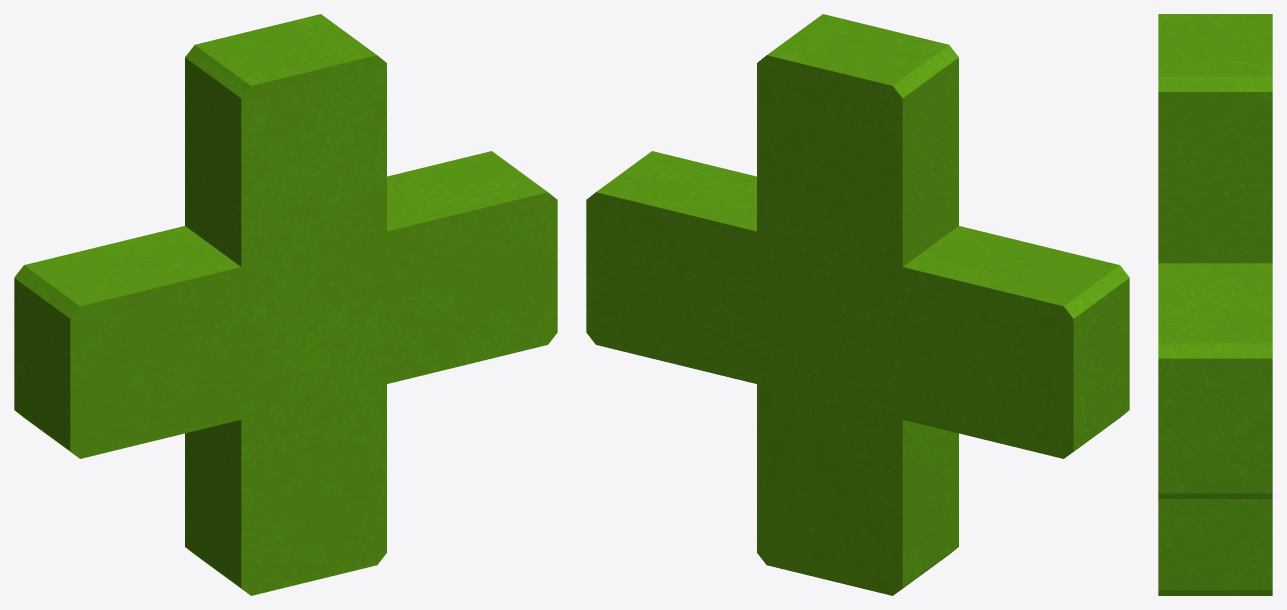
File: health.fbx
The picture shows the model from 3 angles, left to right: view 1: azimuth 30°, elevation 25°; view 2: azimuth 150°, elevation 25°; view 3: azimuth 270°, elevation 25°; orthographic projection.
Visible parts, largest first — view 1: health1; view 2: health1; view 3: health1.
Part boxes in pixels (x1,y1,x2,y2): health1: [14, 14, 557, 595]; health1: [586, 14, 1129, 595]; health1: [1158, 14, 1272, 595].
Size of the model in its own units: 74.74 by 74.74 by 14.95.
1 material, 1 textured.
